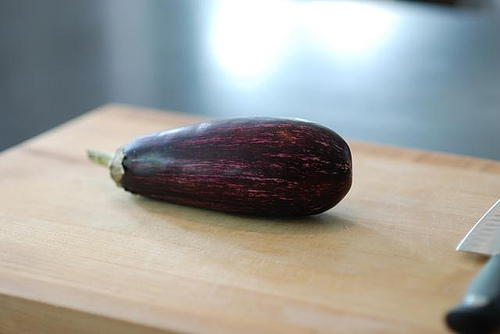eggplant: (78, 111, 358, 224)
